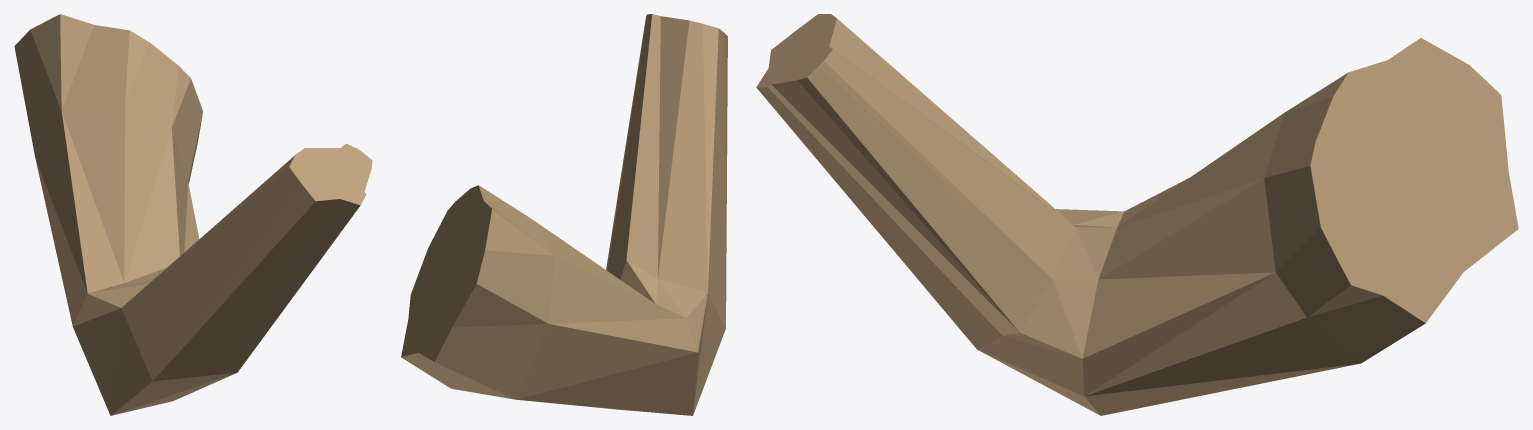
Rendered from Thief_RightArm.fbx.
3 renders of one model, left to right at view 1: azimuth 30°, elevation 25°; view 2: azimuth 150°, elevation 25°; view 3: azimuth 270°, elevation 25°, orthographic. The views are drawn at different scales.
Parts seen in each view (by area): view 1: T_RArm; view 2: T_RArm; view 3: T_RArm.
Part boxes in pixels (x1,y1,x2,y2): T_RArm: (14, 14, 372, 415); T_RArm: (401, 14, 727, 415); T_RArm: (756, 14, 1518, 415).
Bounding box in the file's own units: 10.38 × 15.05 × 24.95.
